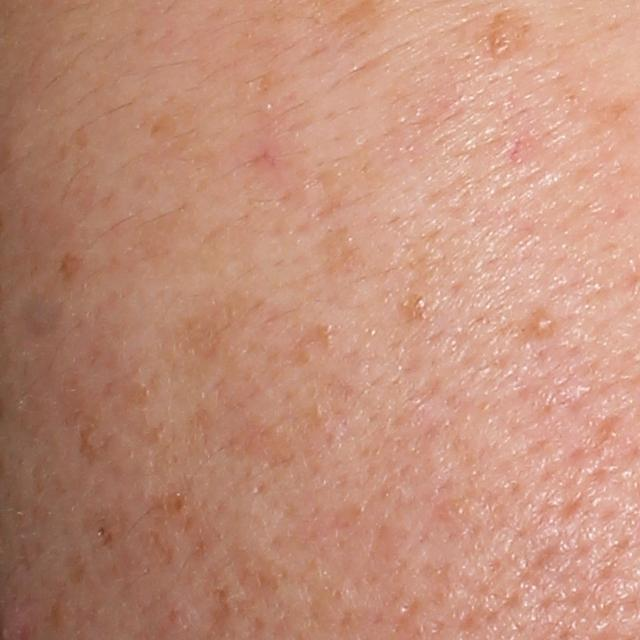comedo: (530, 313, 557, 337)
